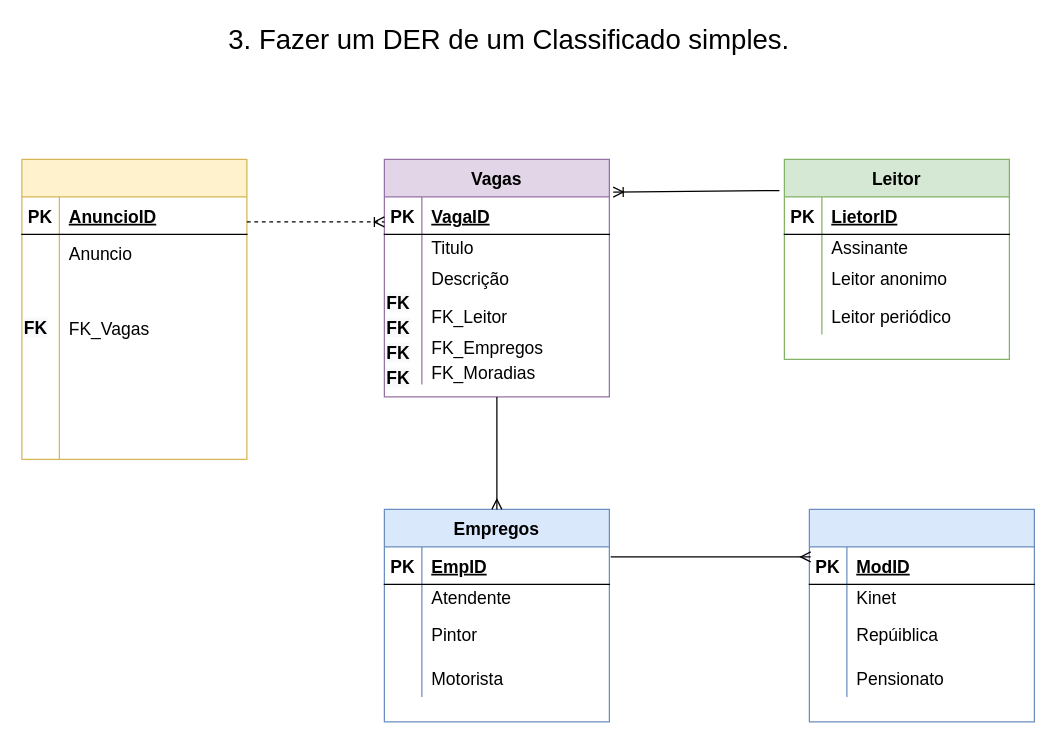
Image size: 1056x744. Some labels were removed from this diagram. Here are the shapes that lost their labels. From the top down, the box of each, then its label:
(21, 158, 247, 459): Classificados
(808, 508, 1034, 722): Moradia
